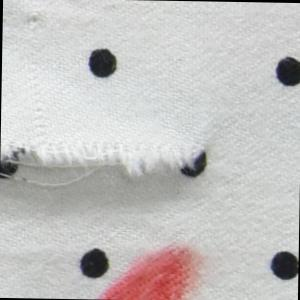Damage: (1, 123, 213, 199), (19, 3, 48, 43)
Stain: (95, 239, 204, 300)
